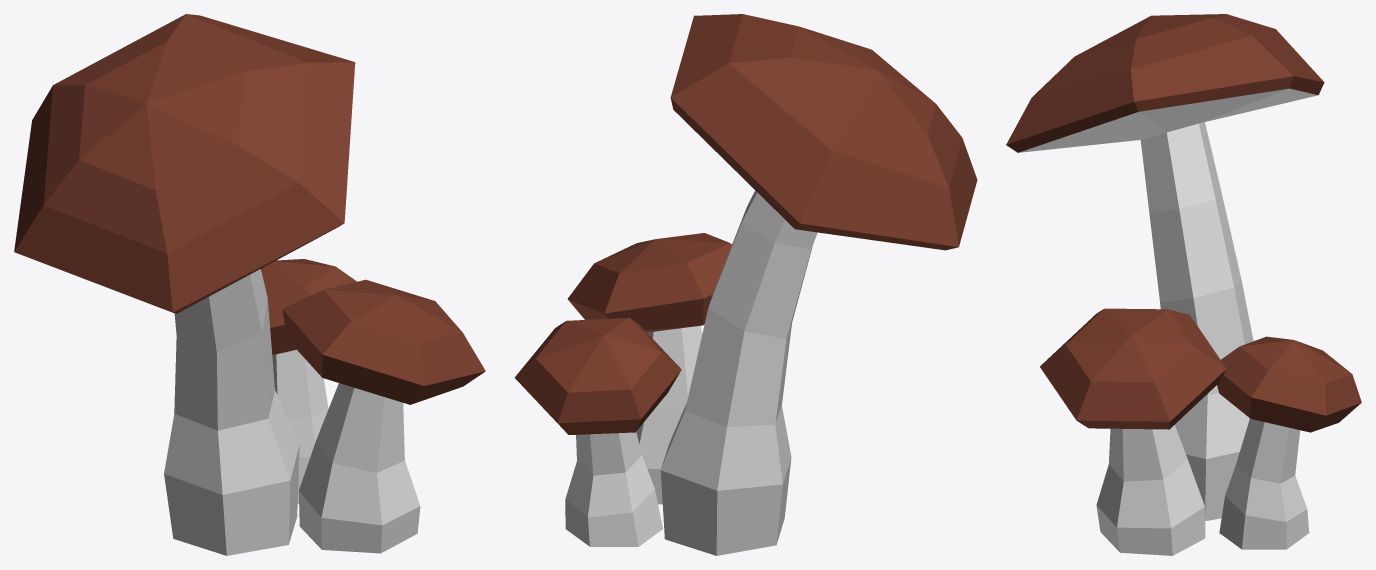
The model's file is orange-cap_boletus.fbx.
3 views of the same model, side by side, from view 1: azimuth 30°, elevation 25°; view 2: azimuth 150°, elevation 25°; view 3: azimuth 270°, elevation 25° (orthographic). The views are drawn at different scales.
Parts seen in each view (by area): view 1: orange-cap_boletus; view 2: orange-cap_boletus; view 3: orange-cap_boletus.
Boxes of the visible parts, x1,y1,x2,y2 form: orange-cap_boletus: [14, 14, 485, 555]; orange-cap_boletus: [514, 14, 977, 555]; orange-cap_boletus: [1006, 14, 1361, 555].
Size of the model in its own units: 34.76 by 40.03 by 28.75.
